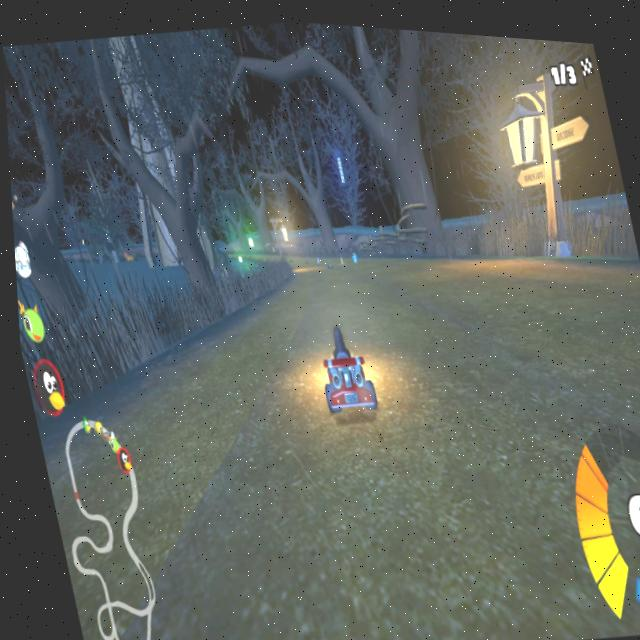bonus: (347, 244, 358, 260)
obstacle: (332, 247, 346, 262)
player_kart: (304, 312, 378, 419)
